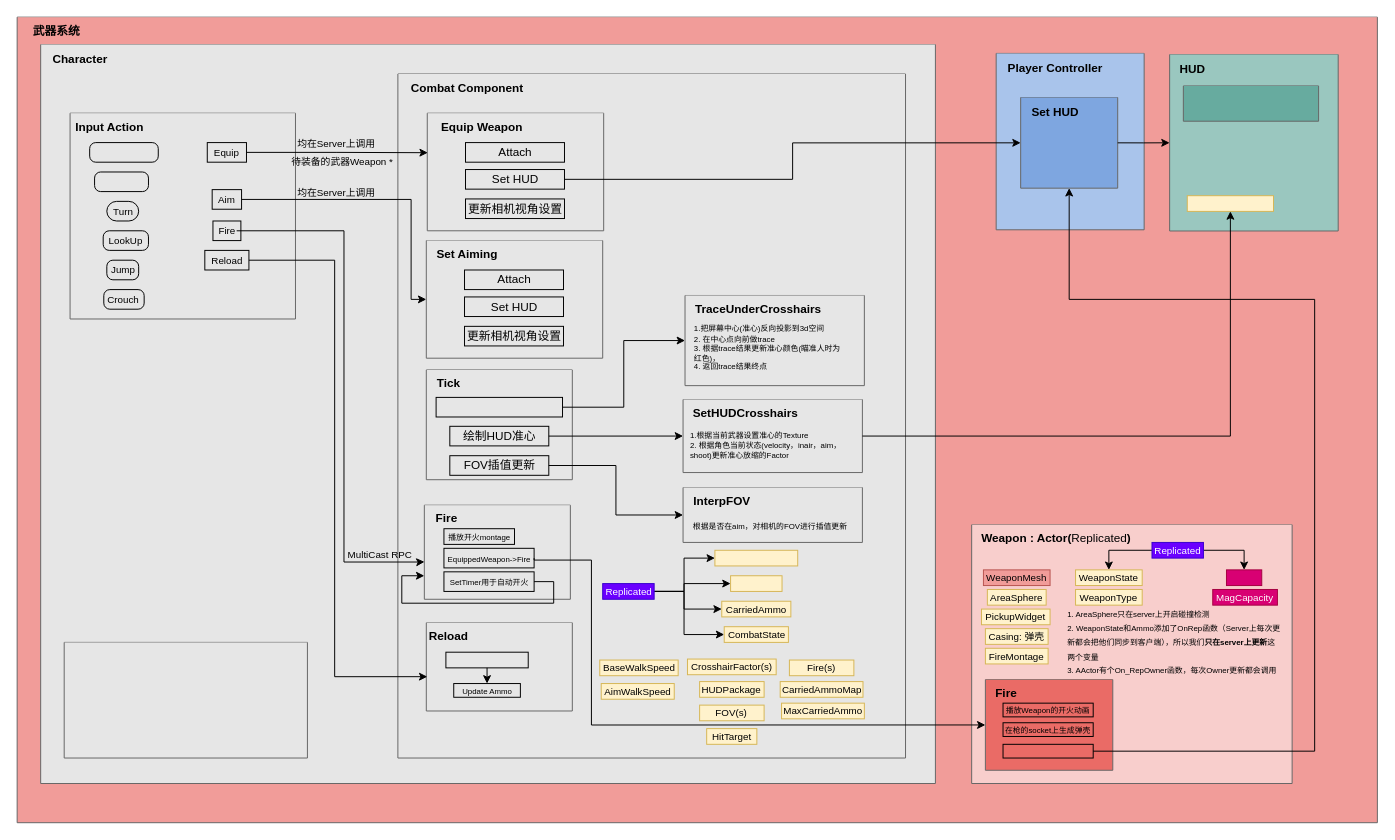
Some shapes in this 1395 by 840 pixel diagram are drawn without their labels. Each missing label, with the centre of its shape:
Ammo: (x=1243, y=577)
bAiming: (x=756, y=583)
Buff Component: (x=185, y=699)
CrosshairPackage: (x=1230, y=203)
DrawCrossHair: (x=1250, y=103)
EquippedWeapon: (x=756, y=557)
MoveForward: (x=123, y=152)
MoveRight: (x=121, y=181)
准心Trace: (x=499, y=406)
减少子弹数并更新HUD: (x=1047, y=750)
播放Reload montage: (x=486, y=659)
